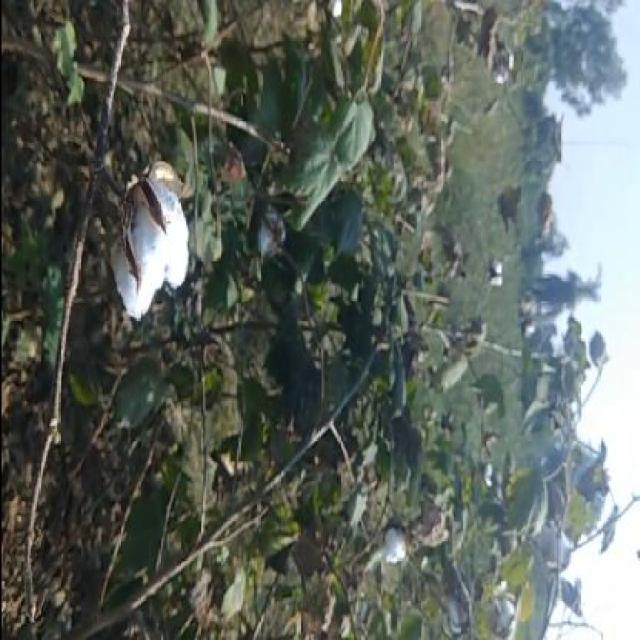cotton_ready: (80, 132, 197, 336)
